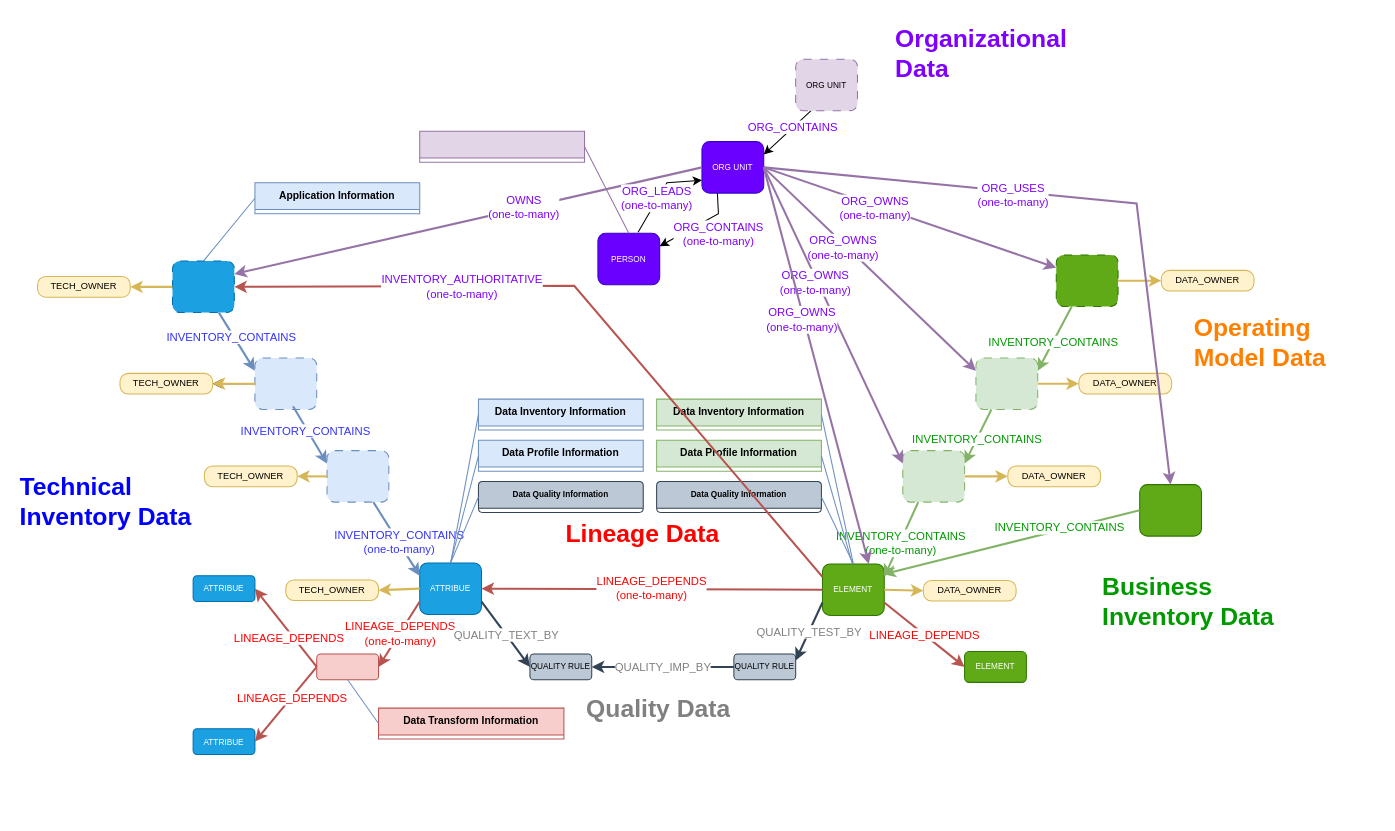
Some shapes in this 1395 by 831 pixel diagram are drawn without their labels. Each missing label, with the centre of its shape:
"APPLICATION" belongs at point (202, 286).
"CLASS" belongs at point (1006, 383).
"DATA PRODUCT" belongs at point (1170, 510).
"DOMAIN" belongs at point (1086, 280).
"Person Information" belongs at point (502, 146).
"SCHEMA" belongs at point (285, 383).
"SUBCLASS" belongs at point (933, 476).
"TABLE" belongs at point (357, 476).
"TRANSFORM RULE" belongs at point (347, 666).
